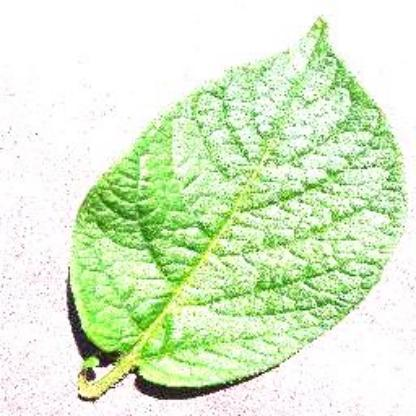Healthy-plant: (44, 13, 413, 405)
